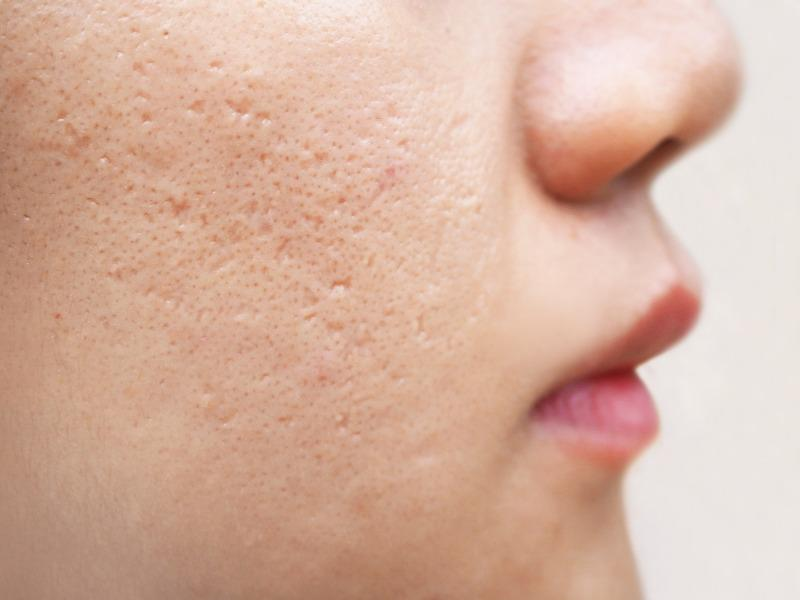Englarged-Pores: (39, 41, 390, 366)
Oily-Skin: (16, 2, 702, 600)
